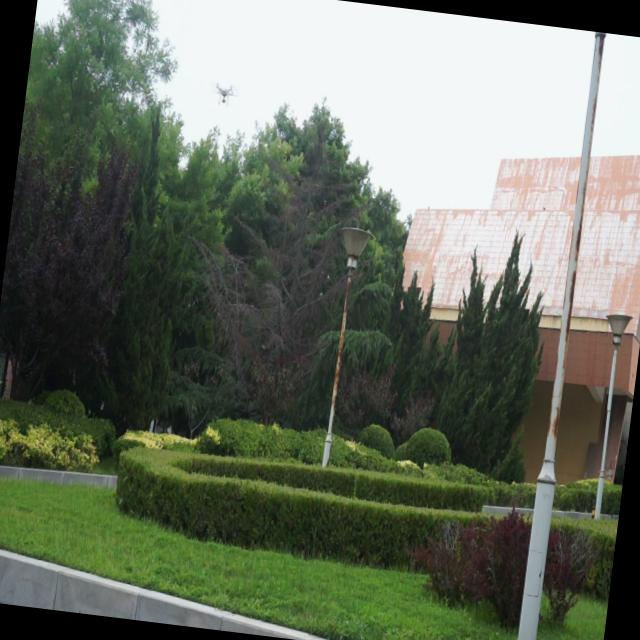drone: (210, 74, 240, 110)
